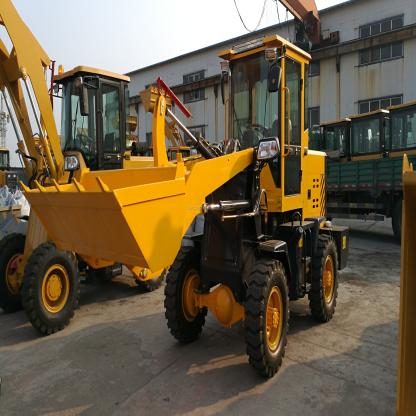bull_dozer/loader/grader: (36, 7, 352, 374)
